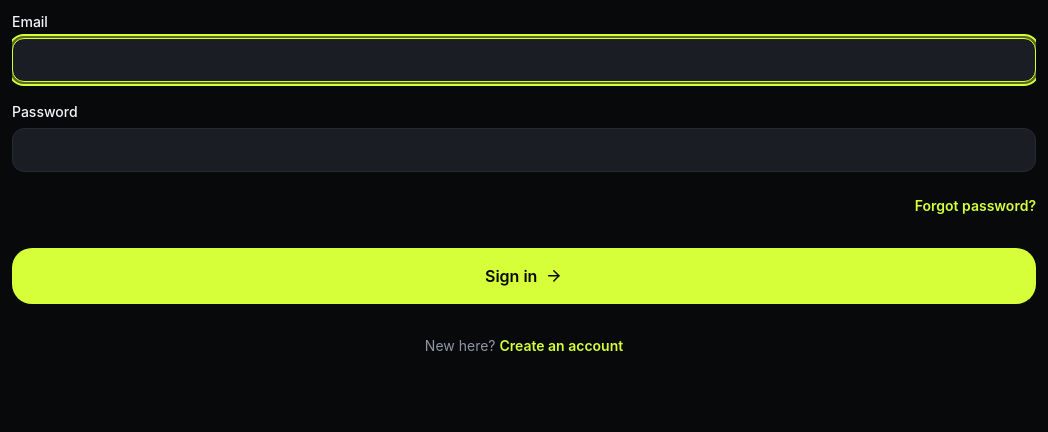
it: LoginForm › says when to try again on 429
Type "runner@example.com" into the field labelled "Email" at (524, 60), box left=12, top=38, right=1036, bottom=82
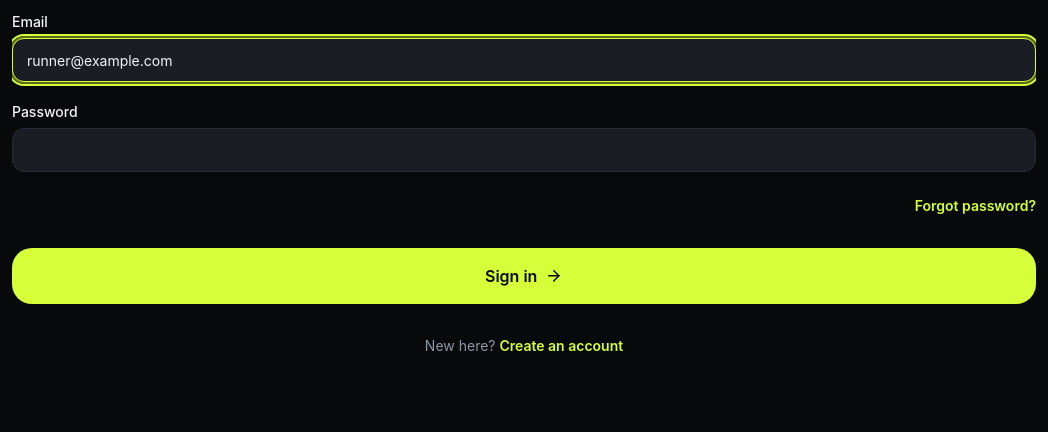
Type "nope" into the password field labelled "Password" at (524, 150), box left=12, top=128, right=1036, bottom=172
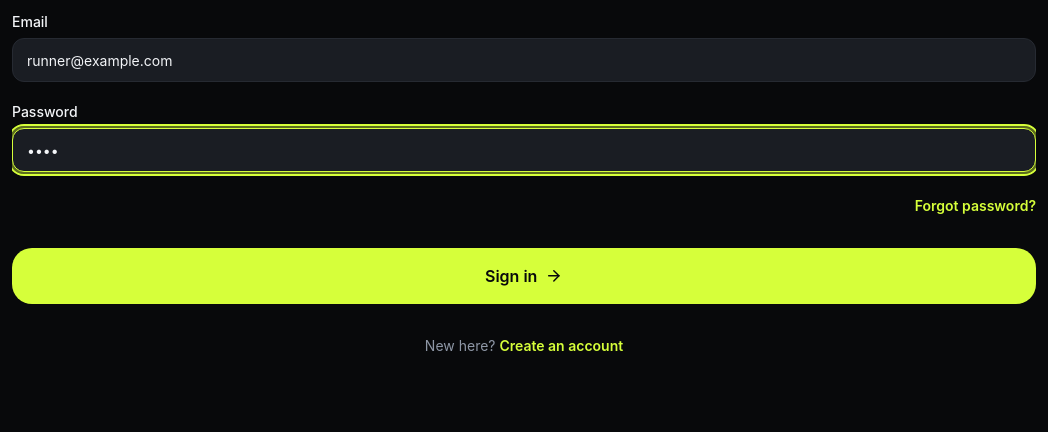
Click the button "Sign in" at (524, 276), box left=12, top=248, right=1036, bottom=304
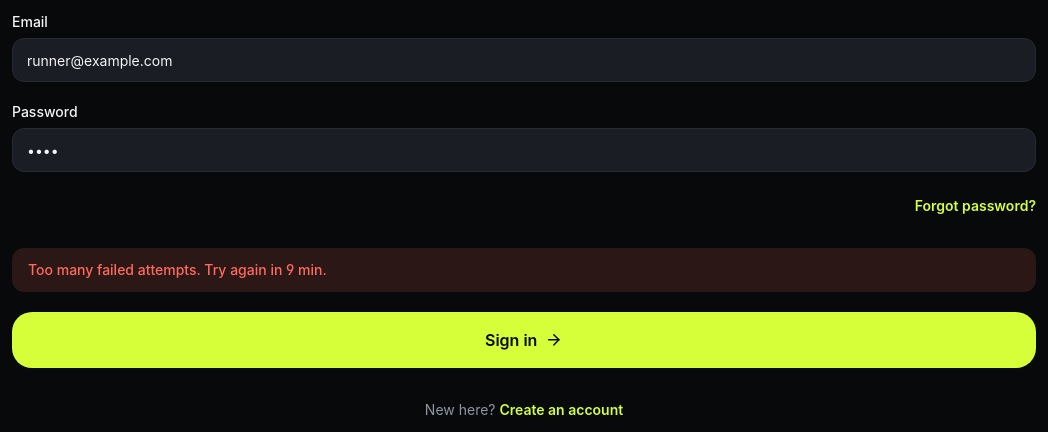
Check: the message reads "Too many failed attempts. Try again in 9 min.", box left=28, top=261, right=327, bottom=278
